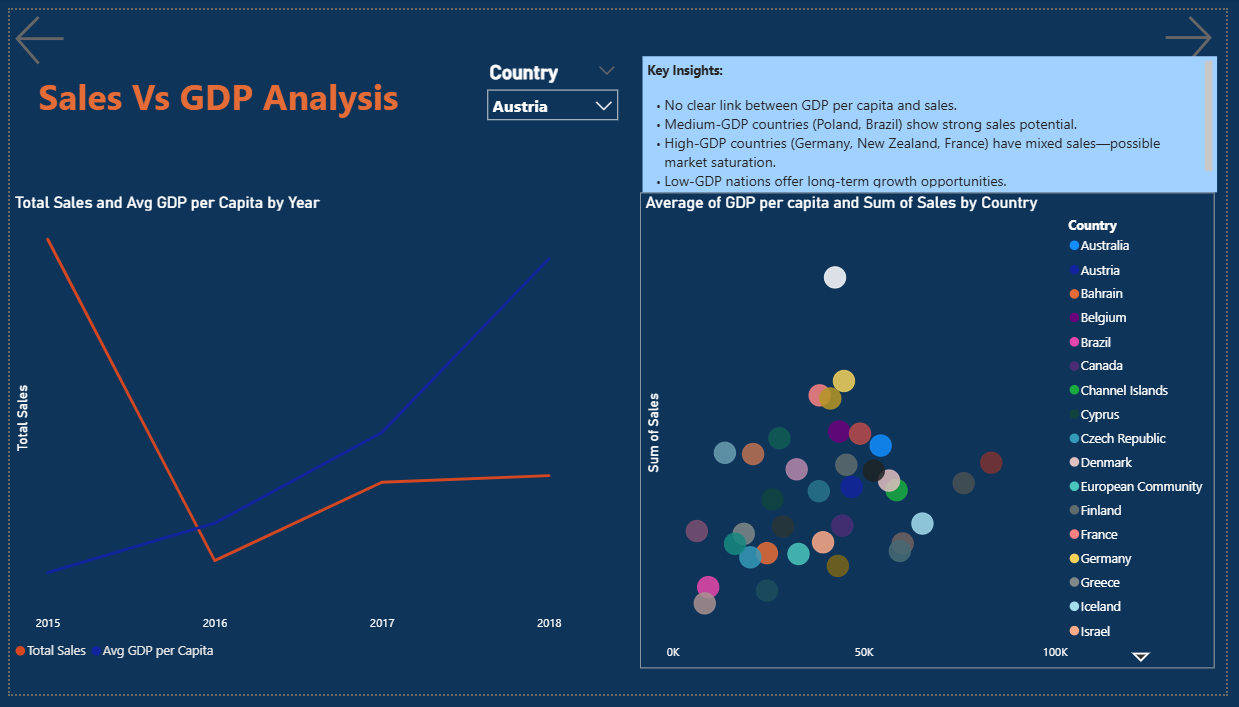

What the dashboard file says about the page in this screenshot:
{"tool":"powerbi","page":{"name":"Secondary Dataset Analysis","canvas":[1280,720],"ordinal":6},"visuals":[{"type":"actionButton","box":[0,0,100.3,63.8],"z":0},{"type":"scatterChart","fields":{"X":["Avg(GDP_Per_Capita.GDP per capita)"],"Series":["CountryTable.Country"],"Y":["Sum(Sales.Sales)"]},"box":[662.5,191.9,605.1,501.2],"z":1000},{"type":"textbox","box":[25.3,60.8,401.3,64.6],"z":2000},{"type":"actionButton","box":[1209.3,0,70.7,61.3],"z":3000},{"type":"lineChart","fields":{"Y2":["GDP_Per_Capita.Avg GDP per Capita"],"Y":["Sales.Total Sales"],"Category":["Date.Year"]},"box":[0,191.9,585.5,501.2],"z":4000},{"type":"slicer","fields":{"Values":["CountryTable.Country"]},"box":[492.6,48.9,157.7,88],"z":5000},{"type":"textbox","box":[666,49,605,143],"z":6000}]}

Visuals, with their boxes in screenshot pixels (x1, y1, x2, y2), scaled from the page's 1280x720 canvas onto the 1239x707 screenshot:
actionButton: (x1=0, y1=0, x2=97, y2=63)
scatterChart - Avg(GDP_Per_Capita.GDP per capita) x CountryTable.Country: (x1=641, y1=188, x2=1227, y2=681)
textbox: (x1=24, y1=60, x2=413, y2=123)
actionButton: (x1=1171, y1=0, x2=1238, y2=60)
lineChart - GDP_Per_Capita.Avg GDP per Capita x Sales.Total Sales: (x1=0, y1=188, x2=567, y2=681)
slicer - CountryTable.Country: (x1=477, y1=48, x2=629, y2=134)
textbox: (x1=645, y1=48, x2=1230, y2=189)
